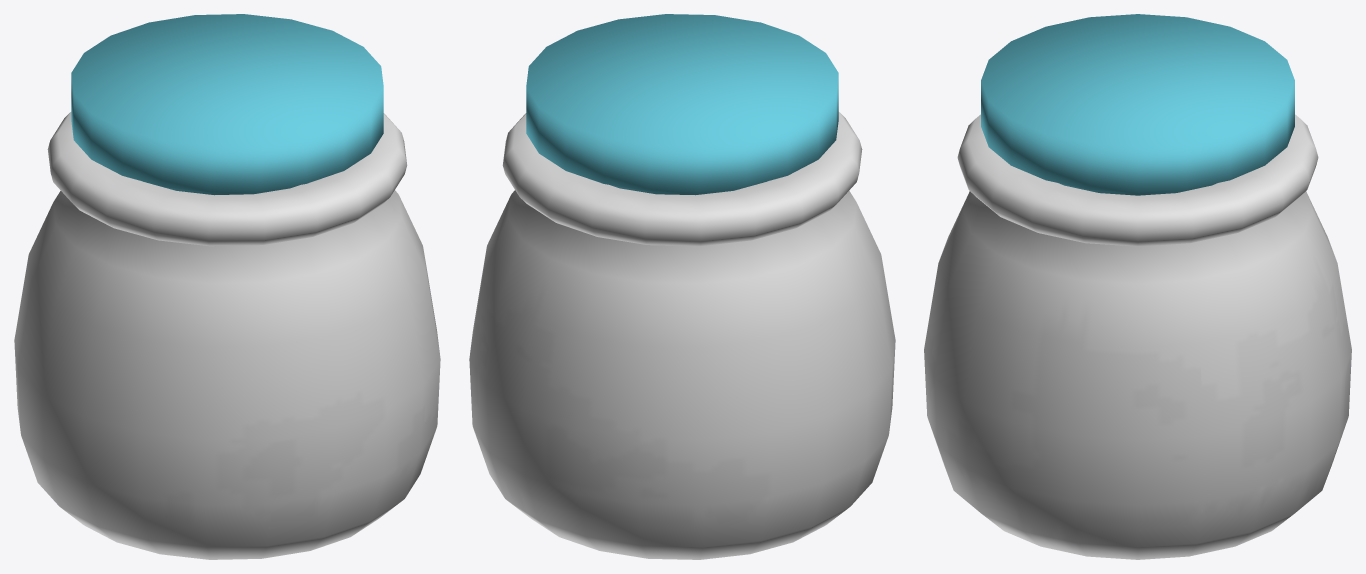
File: pi_glasspot07_creamcheese.gltf
3 views of the same model, side by side, from view 1: azimuth 30°, elevation 25°; view 2: azimuth 150°, elevation 25°; view 3: azimuth 270°, elevation 25° (orthographic).
Parts seen in each view (by area): view 1: glasspot07_outside01_mesh_shape__duprename_32b0e42x:pi_glass, glasspot07_lid01_mesh_shape:pi_glasspot07_body; view 2: glasspot07_outside01_mesh_shape__duprename_32b0e42x:pi_glass, glasspot07_lid01_mesh_shape:pi_glasspot07_body; view 3: glasspot07_outside01_mesh_shape__duprename_32b0e42x:pi_glass, glasspot07_lid01_mesh_shape:pi_glasspot07_body.
Boxes of the visible parts, <box> form: glasspot07_outside01_mesh_shape__duprename_32b0e42x:pi_glass: <box>14,112,440,559</box>; glasspot07_lid01_mesh_shape:pi_glasspot07_body: <box>71,14,383,195</box>; glasspot07_outside01_mesh_shape__duprename_32b0e42x:pi_glass: <box>469,112,895,559</box>; glasspot07_lid01_mesh_shape:pi_glasspot07_body: <box>526,14,838,195</box>; glasspot07_outside01_mesh_shape__duprename_32b0e42x:pi_glass: <box>924,114,1351,559</box>; glasspot07_lid01_mesh_shape:pi_glasspot07_body: <box>981,14,1294,195</box>.
Size of the model in its own units: 0.0943 by 0.0997 by 0.0943.
3 materials, 3 textured.
